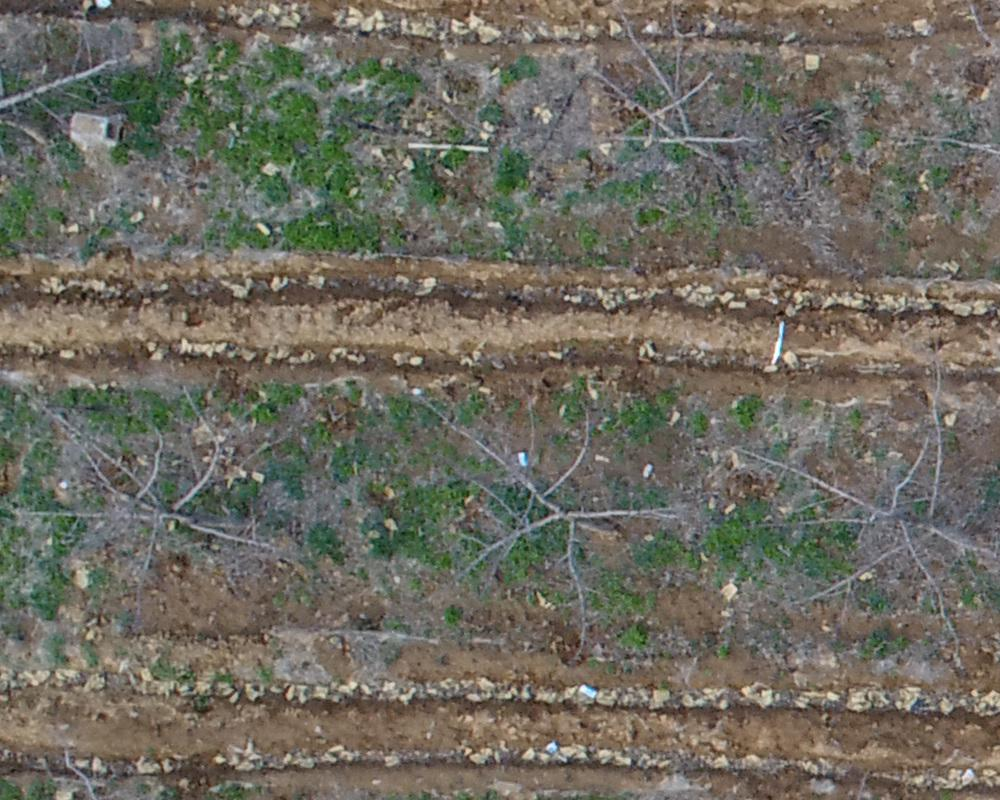apple: (399, 366, 672, 660), (735, 389, 990, 668), (22, 395, 310, 609), (557, 10, 767, 200)
